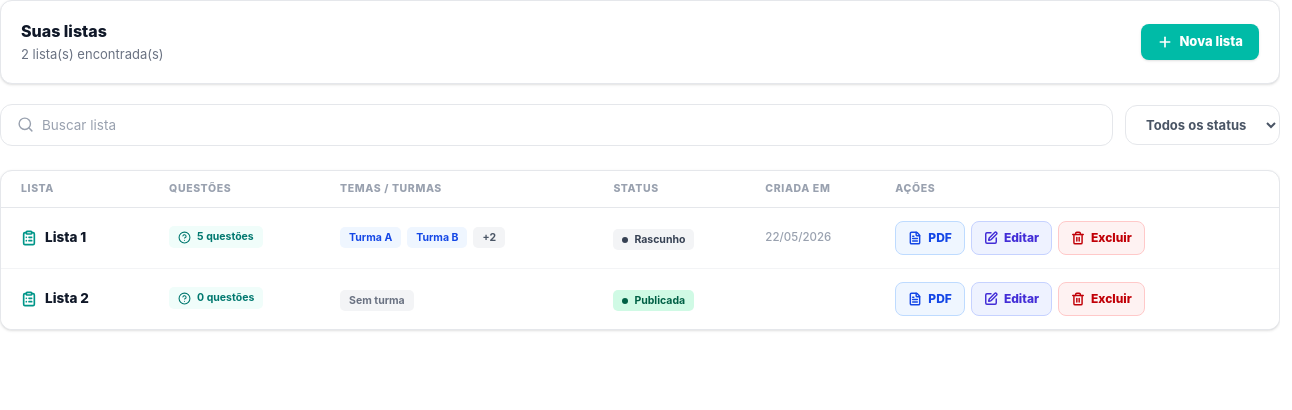
Test: ListarListas › deve fazer download do PDF com sucesso
Expected: the text "Lista 1" is shown, [45, 227, 86, 248]
Click the button "PDF" in the row of "Lista 1".
click(930, 238)  # box [895, 220, 965, 254]
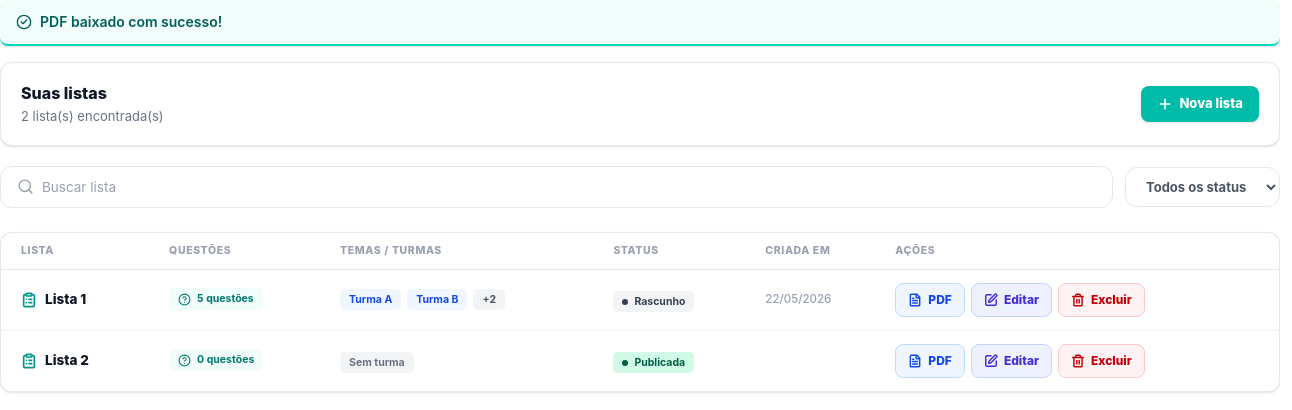
Expected: the text "PDF baixado com sucesso!" is shown, [0, 0, 1280, 46]
